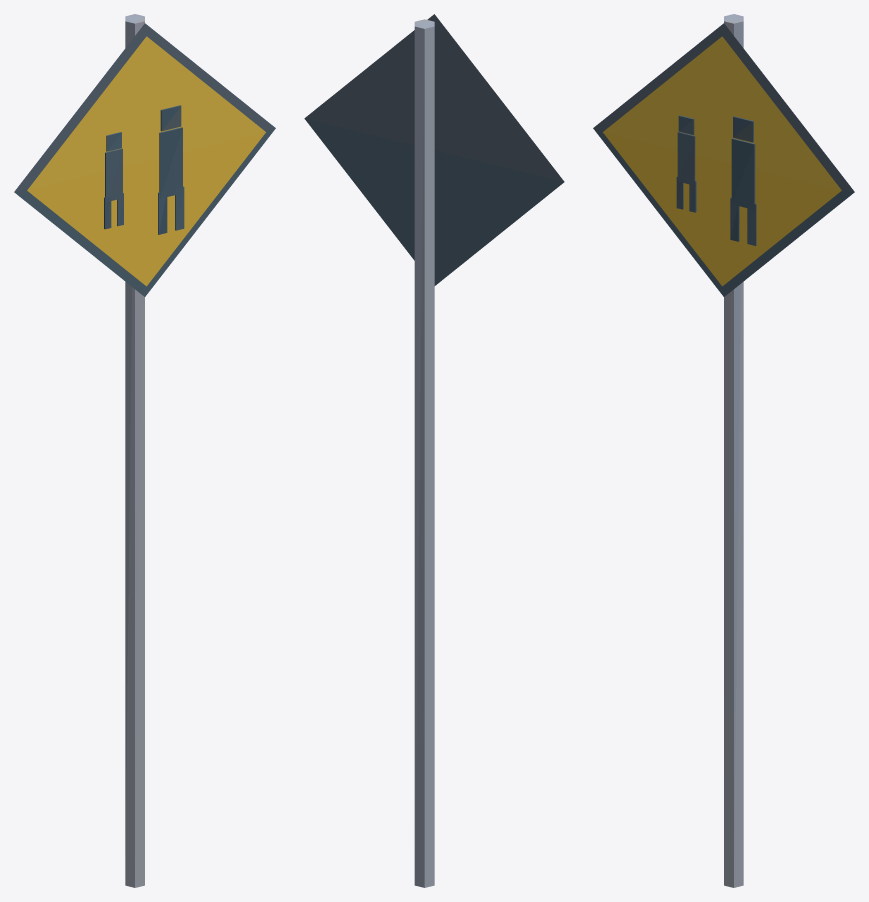
Rendered from HK_Sign_School.lod.glb.
The picture shows the model from 3 angles, left to right: view 1: azimuth 30°, elevation 25°; view 2: azimuth 150°, elevation 25°; view 3: azimuth 330°, elevation 25°; orthographic projection.
Parts seen in each view (by area): view 1: HK_Sign_School; view 2: HK_Sign_School; view 3: HK_Sign_School.
Boxes of the visible parts, bbox=[...] form: HK_Sign_School: bbox=[14, 14, 275, 887]; HK_Sign_School: bbox=[304, 14, 564, 887]; HK_Sign_School: bbox=[593, 14, 854, 887].
Size of the model in its own units: 0.92 by 2.91 by 0.1128.
